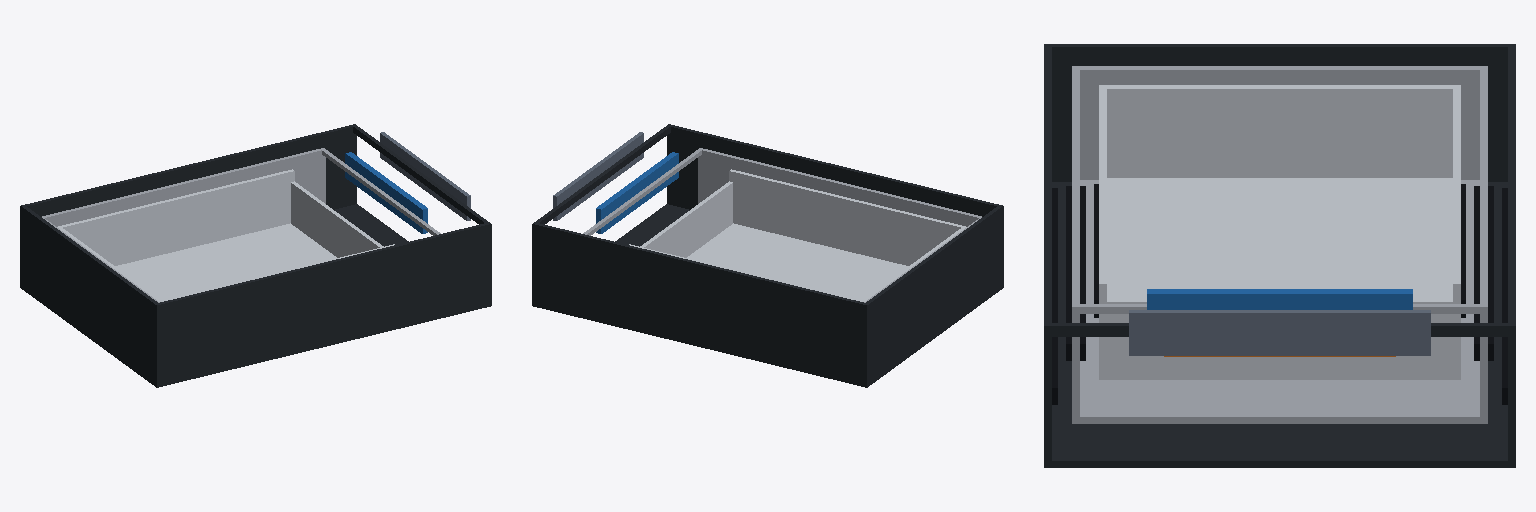
URDF robot description (two_stage_telescoping_storage_drawer):
<robot name="two_stage_telescoping_storage_drawer">
  <material name="outer_body">
    <color rgba="0.18 0.2 0.22 1" />
    </material>
  <material name="middle_body">
    <color rgba="0.67 0.69 0.72 1" />
    </material>
  <material name="inner_body">
    <color rgba="0.8 0.82 0.85 1" />
    </material>
  <material name="runner_dark">
    <color rgba="0.1 0.11 0.13 1" />
    </material>
  <material name="grip_outer">
    <color rgba="0.42 0.46 0.52 1" />
    </material>
  <material name="grip_middle">
    <color rgba="0.18 0.45 0.7 1" />
    </material>
  <material name="grip_inner">
    <color rgba="0.83 0.48 0.18 1" />
    </material>
  <link name="outer_tray">
    <inertial>
      <origin xyz="0.172 0 0.04" rpy="0 0 0" />
      <mass value="1.5" />
      <inertia ixx="0.008" ixy="0" ixz="0" iyy="0.015592" iyz="0" izz="0.021992" />
      </inertial>
    <visual>
      <origin xyz="0.17 0 0.002" rpy="0 0 0" />
      <geometry>
        <box size="0.34 0.24 0.004" />
        </geometry>
      <material name="outer_body" />
      </visual>
    <visual>
      <origin xyz="0.17 0.118 0.042" rpy="0 0 0" />
      <geometry>
        <box size="0.34 0.004 0.076" />
        </geometry>
      <material name="outer_body" />
      </visual>
    <visual>
      <origin xyz="0.17 -0.118 0.042" rpy="0 0 0" />
      <geometry>
        <box size="0.34 0.004 0.076" />
        </geometry>
      <material name="outer_body" />
      </visual>
    <visual>
      <origin xyz="0.002 0 0.042" rpy="0 0 0" />
      <geometry>
        <box size="0.004 0.232 0.076" />
        </geometry>
      <material name="outer_body" />
      </visual>
    <visual>
      <origin xyz="0.338 0 0.077" rpy="0 0 0" />
      <geometry>
        <box size="0.004 0.232 0.006" />
        </geometry>
      <material name="outer_body" />
      </visual>
    <visual>
      <origin xyz="0.342 0 0.077" rpy="0 0 0" />
      <geometry>
        <box size="0.004 0.1536 0.024" />
        </geometry>
      <material name="grip_outer" />
      </visual>
    <visual>
      <origin xyz="0.17 0.1145 0.017" rpy="0 0 0" />
      <geometry>
        <box size="0.24 0.003 0.01" />
        </geometry>
      <material name="runner_dark" />
      </visual>
    <visual>
      <origin xyz="0.17 -0.1145 0.017" rpy="0 0 0" />
      <geometry>
        <box size="0.24 0.003 0.01" />
        </geometry>
      <material name="runner_dark" />
      </visual>
    <collision name="outer_tray__visual_1">
      <origin xyz="0.17 0 0.002" rpy="0 0 0" />
      <geometry>
        <box size="0.34 0.24 0.004" />
        </geometry>
      </collision>
    <collision name="outer_tray__visual_2">
      <origin xyz="0.17 0.118 0.042" rpy="0 0 0" />
      <geometry>
        <box size="0.34 0.004 0.076" />
        </geometry>
      </collision>
    <collision name="outer_tray__visual_3">
      <origin xyz="0.17 -0.118 0.042" rpy="0 0 0" />
      <geometry>
        <box size="0.34 0.004 0.076" />
        </geometry>
      </collision>
    <collision name="outer_tray__visual_4">
      <origin xyz="0.002 0 0.042" rpy="0 0 0" />
      <geometry>
        <box size="0.004 0.232 0.076" />
        </geometry>
      </collision>
    <collision name="outer_tray__visual_5">
      <origin xyz="0.338 0 0.077" rpy="0 0 0" />
      <geometry>
        <box size="0.004 0.232 0.006" />
        </geometry>
      </collision>
    <collision name="outer_tray__visual_6">
      <origin xyz="0.342 0 0.077" rpy="0 0 0" />
      <geometry>
        <box size="0.004 0.1536 0.024" />
        </geometry>
      </collision>
    <collision name="outer_tray__visual_7">
      <origin xyz="0.17 0.1145 0.017" rpy="0 0 0" />
      <geometry>
        <box size="0.24 0.003 0.01" />
        </geometry>
      </collision>
    <collision name="outer_tray__visual_8">
      <origin xyz="0.17 -0.1145 0.017" rpy="0 0 0" />
      <geometry>
        <box size="0.24 0.003 0.01" />
        </geometry>
      </collision>
    </link>
  <link name="middle_tray">
    <inertial>
      <origin xyz="0.148 0 0.033" rpy="0 0 0" />
      <mass value="0.95" />
      <inertia ixx="0.00410717" ixy="0" ixz="0" iyy="0.00728112" iyz="0" izz="0.0106986" />
      </inertial>
    <visual>
      <origin xyz="0.145 0 0.002" rpy="0 0 0" />
      <geometry>
        <box size="0.29 0.212 0.004" />
        </geometry>
      <material name="middle_body" />
      </visual>
    <visual>
      <origin xyz="0.145 0.104 0.035" rpy="0 0 0" />
      <geometry>
        <box size="0.29 0.004 0.062" />
        </geometry>
      <material name="middle_body" />
      </visual>
    <visual>
      <origin xyz="0.145 -0.104 0.035" rpy="0 0 0" />
      <geometry>
        <box size="0.29 0.004 0.062" />
        </geometry>
      <material name="middle_body" />
      </visual>
    <visual>
      <origin xyz="0.002 0 0.035" rpy="0 0 0" />
      <geometry>
        <box size="0.004 0.204 0.062" />
        </geometry>
      <material name="middle_body" />
      </visual>
    <visual>
      <origin xyz="0.288 0 0.064" rpy="0 0 0" />
      <geometry>
        <box size="0.004 0.204 0.004" />
        </geometry>
      <material name="middle_body" />
      </visual>
    <visual>
      <origin xyz="0.293 0 0.064" rpy="0 0 0" />
      <geometry>
        <box size="0.006 0.13568 0.024" />
        </geometry>
      <material name="grip_middle" />
      </visual>
    <visual>
      <origin xyz="0.145 0.1005 0.017" rpy="0 0 0" />
      <geometry>
        <box size="0.19 0.003 0.01" />
        </geometry>
      <material name="runner_dark" />
      </visual>
    <visual>
      <origin xyz="0.145 -0.1005 0.017" rpy="0 0 0" />
      <geometry>
        <box size="0.19 0.003 0.01" />
        </geometry>
      <material name="runner_dark" />
      </visual>
    <visual>
      <origin xyz="0.145 0.1075 0.017" rpy="0 0 0" />
      <geometry>
        <box size="0.19 0.003 0.01" />
        </geometry>
      <material name="runner_dark" />
      </visual>
    <visual>
      <origin xyz="0.145 -0.1075 0.017" rpy="0 0 0" />
      <geometry>
        <box size="0.19 0.003 0.01" />
        </geometry>
      <material name="runner_dark" />
      </visual>
    <collision name="middle_tray__visual_1">
      <origin xyz="0.145 0 0.002" rpy="0 0 0" />
      <geometry>
        <box size="0.29 0.212 0.004" />
        </geometry>
      </collision>
    <collision name="middle_tray__visual_2">
      <origin xyz="0.145 0.104 0.035" rpy="0 0 0" />
      <geometry>
        <box size="0.29 0.004 0.062" />
        </geometry>
      </collision>
    <collision name="middle_tray__visual_3">
      <origin xyz="0.145 -0.104 0.035" rpy="0 0 0" />
      <geometry>
        <box size="0.29 0.004 0.062" />
        </geometry>
      </collision>
    <collision name="middle_tray__visual_4">
      <origin xyz="0.002 0 0.035" rpy="0 0 0" />
      <geometry>
        <box size="0.004 0.204 0.062" />
        </geometry>
      </collision>
    <collision name="middle_tray__visual_5">
      <origin xyz="0.288 0 0.064" rpy="0 0 0" />
      <geometry>
        <box size="0.004 0.204 0.004" />
        </geometry>
      </collision>
    <collision name="middle_tray__visual_6">
      <origin xyz="0.293 0 0.064" rpy="0 0 0" />
      <geometry>
        <box size="0.006 0.13568 0.024" />
        </geometry>
      </collision>
    <collision name="middle_tray__visual_7">
      <origin xyz="0.145 0.1005 0.017" rpy="0 0 0" />
      <geometry>
        <box size="0.19 0.003 0.01" />
        </geometry>
      </collision>
    <collision name="middle_tray__visual_8">
      <origin xyz="0.145 -0.1005 0.017" rpy="0 0 0" />
      <geometry>
        <box size="0.19 0.003 0.01" />
        </geometry>
      </collision>
    <collision name="middle_tray__visual_9">
      <origin xyz="0.145 0.1075 0.017" rpy="0 0 0" />
      <geometry>
        <box size="0.19 0.003 0.01" />
        </geometry>
      </collision>
    <collision name="middle_tray__visual_10">
      <origin xyz="0.145 -0.1075 0.017" rpy="0 0 0" />
      <geometry>
        <box size="0.19 0.003 0.01" />
        </geometry>
      </collision>
    </link>
  <link name="inner_tray">
    <inertial>
      <origin xyz="0.123 0 0.027" rpy="0 0 0" />
      <mass value="0.6" />
      <inertia ixx="0.0019508" ixy="0" ixz="0" iyy="0.0031716" iyz="0" izz="0.0048308" />
      </inertial>
    <visual>
      <origin xyz="0.12 0 0.002" rpy="0 0 0" />
      <geometry>
        <box size="0.24 0.184 0.004" />
        </geometry>
      <material name="inner_body" />
      </visual>
    <visual>
      <origin xyz="0.12 0.09 0.029" rpy="0 0 0" />
      <geometry>
        <box size="0.24 0.004 0.05" />
        </geometry>
      <material name="inner_body" />
      </visual>
    <visual>
      <origin xyz="0.12 -0.09 0.029" rpy="0 0 0" />
      <geometry>
        <box size="0.24 0.004 0.05" />
        </geometry>
      <material name="inner_body" />
      </visual>
    <visual>
      <origin xyz="0.002 0 0.029" rpy="0 0 0" />
      <geometry>
        <box size="0.004 0.176 0.05" />
        </geometry>
      <material name="inner_body" />
      </visual>
    <visual>
      <origin xyz="0.238 0 0.024" rpy="0 0 0" />
      <geometry>
        <box size="0.004 0.176 0.04" />
        </geometry>
      <material name="inner_body" />
      </visual>
    <visual>
      <origin xyz="0.243 0 0.0264" rpy="0 0 0" />
      <geometry>
        <box size="0.006 0.11776 0.0208" />
        </geometry>
      <material name="grip_inner" />
      </visual>
    <visual>
      <origin xyz="0.12 0.0935 0.017" rpy="0 0 0" />
      <geometry>
        <box size="0.14 0.003 0.01" />
        </geometry>
      <material name="runner_dark" />
      </visual>
    <visual>
      <origin xyz="0.12 -0.0935 0.017" rpy="0 0 0" />
      <geometry>
        <box size="0.14 0.003 0.01" />
        </geometry>
      <material name="runner_dark" />
      </visual>
    <collision name="inner_tray__visual_1">
      <origin xyz="0.12 0 0.002" rpy="0 0 0" />
      <geometry>
        <box size="0.24 0.184 0.004" />
        </geometry>
      </collision>
    <collision name="inner_tray__visual_2">
      <origin xyz="0.12 0.09 0.029" rpy="0 0 0" />
      <geometry>
        <box size="0.24 0.004 0.05" />
        </geometry>
      </collision>
    <collision name="inner_tray__visual_3">
      <origin xyz="0.12 -0.09 0.029" rpy="0 0 0" />
      <geometry>
        <box size="0.24 0.004 0.05" />
        </geometry>
      </collision>
    <collision name="inner_tray__visual_4">
      <origin xyz="0.002 0 0.029" rpy="0 0 0" />
      <geometry>
        <box size="0.004 0.176 0.05" />
        </geometry>
      </collision>
    <collision name="inner_tray__visual_5">
      <origin xyz="0.238 0 0.024" rpy="0 0 0" />
      <geometry>
        <box size="0.004 0.176 0.04" />
        </geometry>
      </collision>
    <collision name="inner_tray__visual_6">
      <origin xyz="0.243 0 0.0264" rpy="0 0 0" />
      <geometry>
        <box size="0.006 0.11776 0.0208" />
        </geometry>
      </collision>
    <collision name="inner_tray__visual_7">
      <origin xyz="0.12 0.0935 0.017" rpy="0 0 0" />
      <geometry>
        <box size="0.14 0.003 0.01" />
        </geometry>
      </collision>
    <collision name="inner_tray__visual_8">
      <origin xyz="0.12 -0.0935 0.017" rpy="0 0 0" />
      <geometry>
        <box size="0.14 0.003 0.01" />
        </geometry>
      </collision>
    </link>
  <joint name="outer_to_middle_slide" type="prismatic">
    <origin xyz="0.01 0 0.006" rpy="0 0 0" />
    <parent link="outer_tray" />
    <child link="middle_tray" />
    <axis xyz="1 0 0" />
    <limit effort="120" velocity="0.25" lower="0" upper="0.19" />
    </joint>
  <joint name="middle_to_inner_slide" type="prismatic">
    <origin xyz="0.01 0 0.006" rpy="0 0 0" />
    <parent link="middle_tray" />
    <child link="inner_tray" />
    <axis xyz="1 0 0" />
    <limit effort="90" velocity="0.25" lower="0" upper="0.072" />
    </joint>
  </robot>

--- What the picture shows (computed from the rendered views, not written in the file) ---
The picture shows the robot from 3 angles, left to right: view 1: azimuth 30°, elevation 25°; view 2: azimuth 150°, elevation 25°; view 3: azimuth 270°, elevation 25°; orthographic projection.
Model two_stage_telescoping_storage_drawer with 3 links and 2 joints (2 prismatic), rooted at outer_tray, posed all joints at 0.
Links seen in each view (by area): view 1: outer_tray, inner_tray, middle_tray; view 2: outer_tray, inner_tray, middle_tray; view 3: inner_tray, outer_tray, middle_tray.
Boxes of the visible links, bbox=[...] form: outer_tray: bbox=[20, 124, 491, 387]; inner_tray: bbox=[57, 169, 394, 301]; middle_tray: bbox=[42, 148, 440, 302]; outer_tray: bbox=[532, 124, 1003, 387]; inner_tray: bbox=[629, 169, 966, 301]; middle_tray: bbox=[583, 148, 981, 302]; inner_tray: bbox=[1094, 85, 1465, 379]; outer_tray: bbox=[1044, 44, 1515, 467]; middle_tray: bbox=[1066, 66, 1493, 423].
Size in the robot's own frame: 0.344 by 0.24 by 0.089 metres.
Geometry: primitives only (box / cylinder / sphere), no mesh files.
